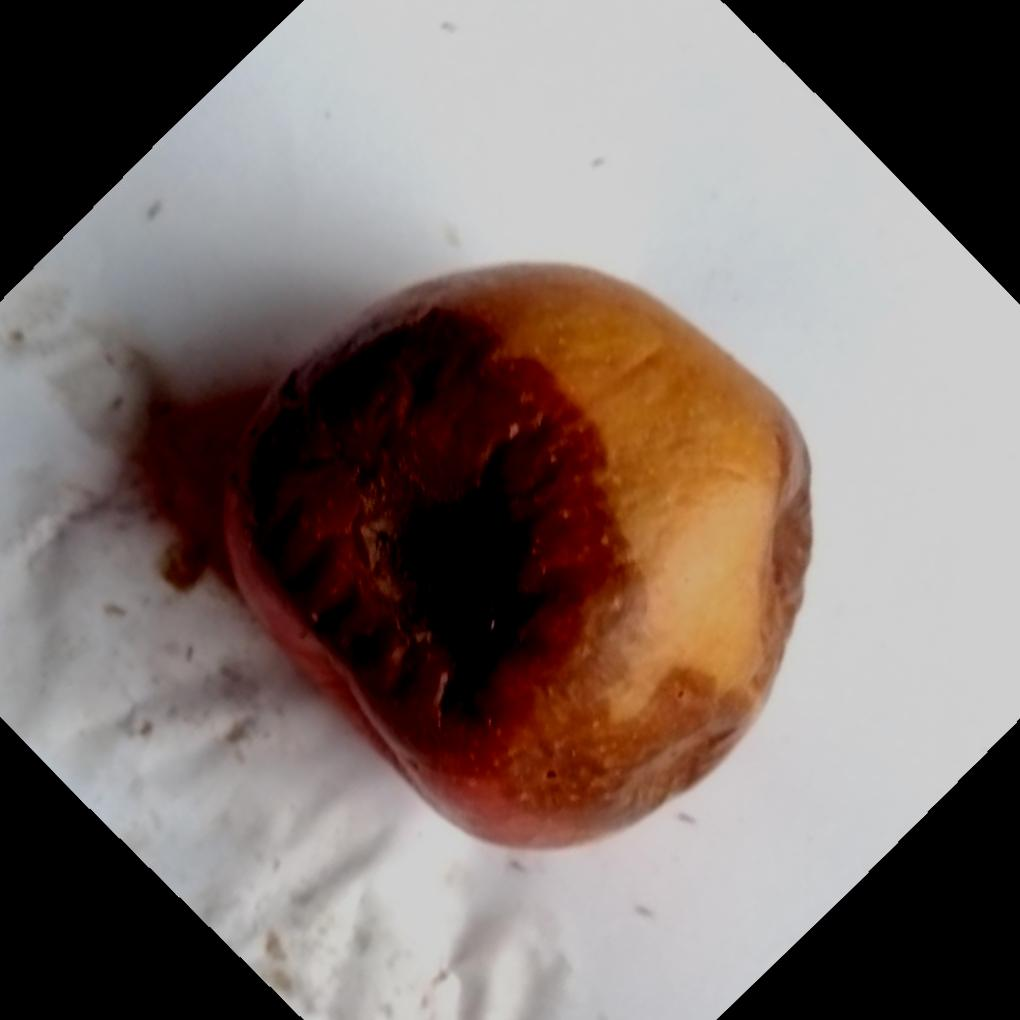FreshOrange: (219, 261, 818, 857)
